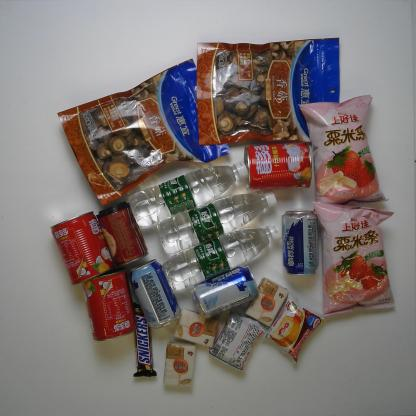Alcohol: (129, 258, 181, 330), (190, 265, 259, 319), (281, 210, 320, 276)
Canned Food: (49, 211, 115, 284), (82, 267, 136, 342), (95, 201, 149, 265), (243, 142, 312, 190)
Chocolate: (130, 302, 158, 378)
Dessert: (262, 292, 324, 365), (209, 310, 267, 372)
Dried Food: (56, 57, 231, 206), (196, 36, 340, 147)
Drink: (160, 223, 282, 291), (156, 190, 278, 256), (128, 160, 248, 227)
Puffed Food: (298, 95, 390, 205), (312, 200, 395, 318)
Tissue: (245, 276, 290, 326), (172, 308, 219, 348), (162, 341, 197, 389)
